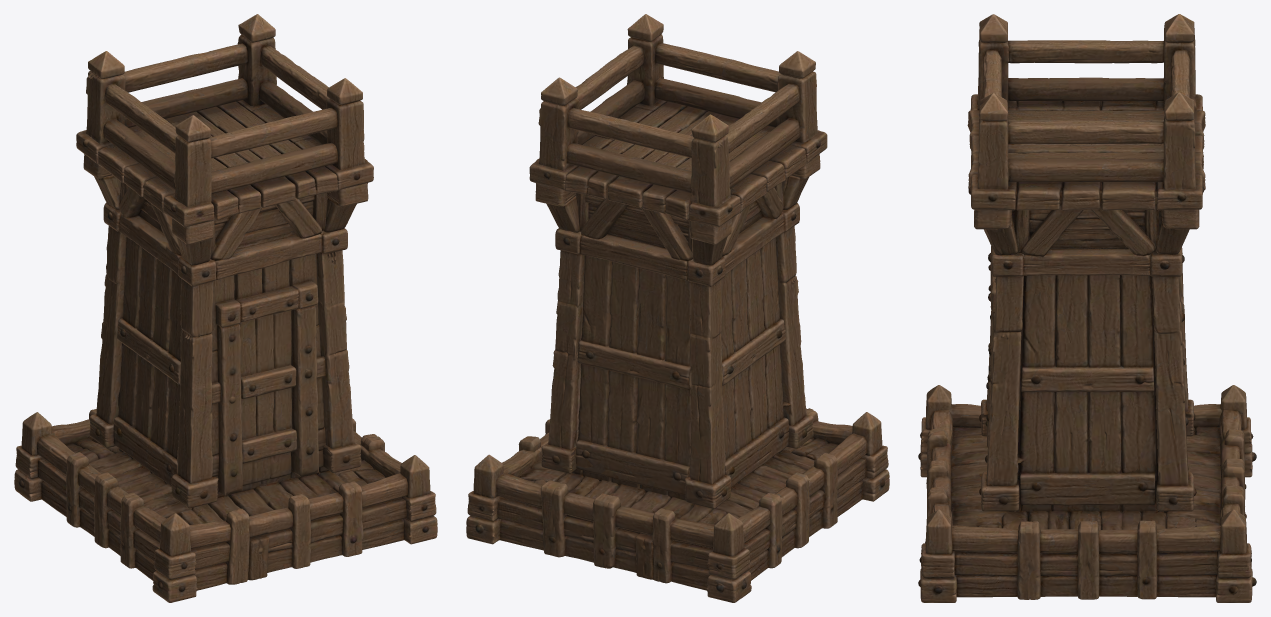
The model's file is tower_small.glb.
3 renders of one model, left to right at view 1: azimuth 30°, elevation 25°; view 2: azimuth 150°, elevation 25°; view 3: azimuth 270°, elevation 25°, orthographic. The views are drawn at different scales.
Size of the model in its own units: 1.21 by 1.9 by 1.22.
Materials: 1 (1 with a texture image).
